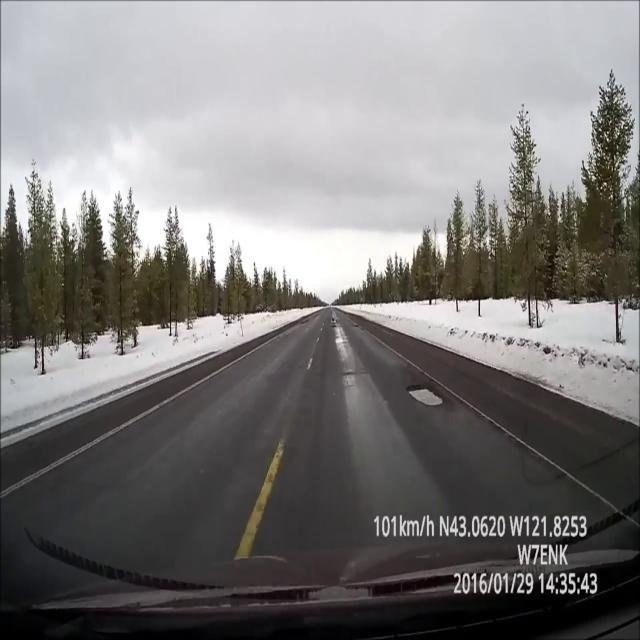pothole: (399, 368, 448, 424), (322, 309, 350, 329)
